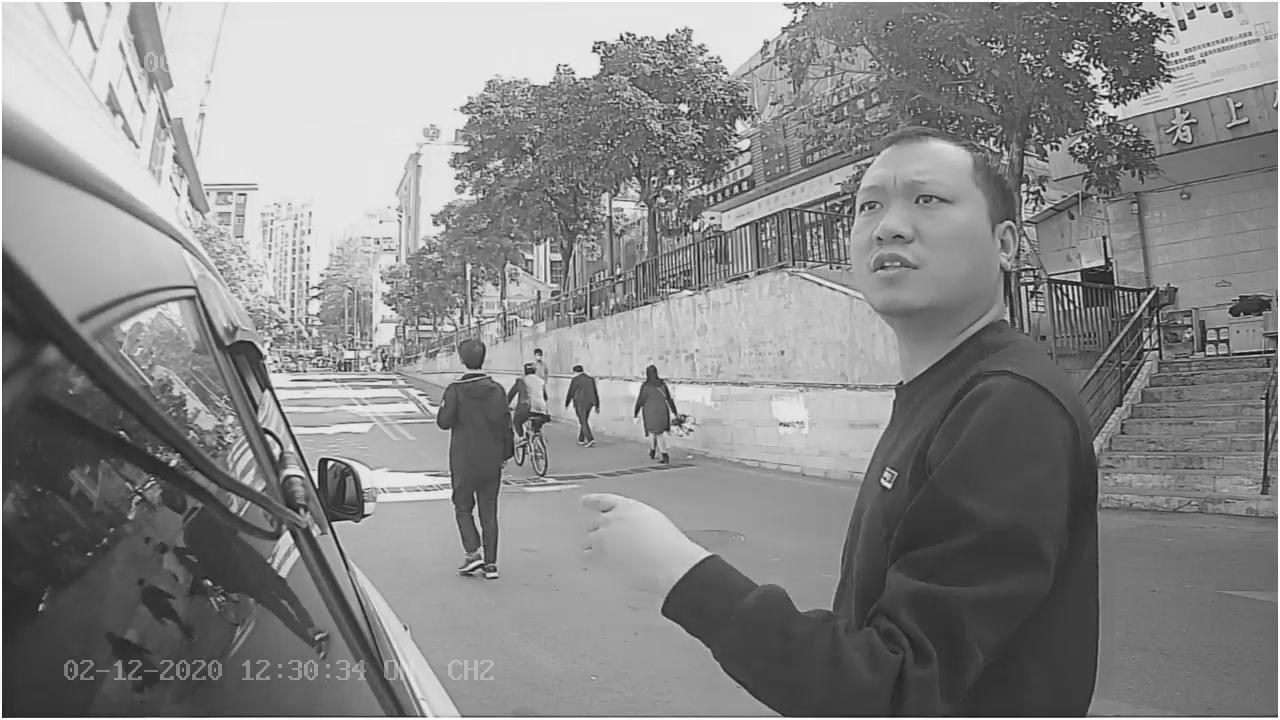person: (808, 114, 1094, 562)
